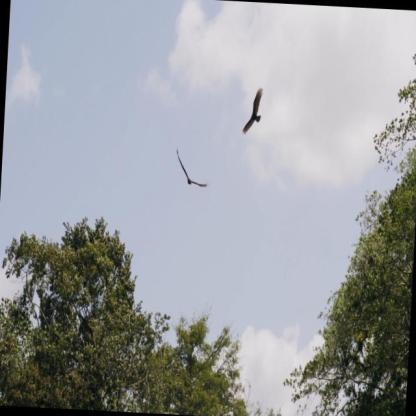bird: (173, 146, 213, 189), (240, 86, 264, 136)
